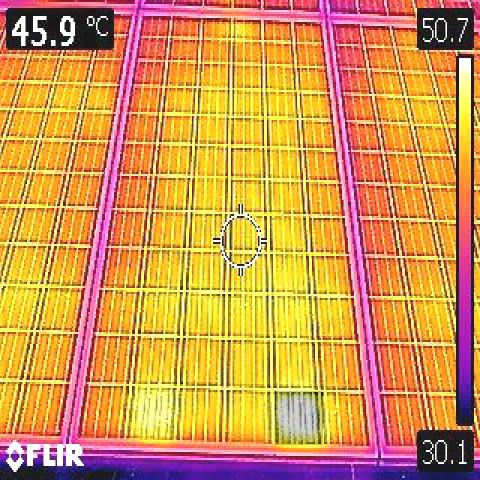fault: (275, 391, 323, 445)
